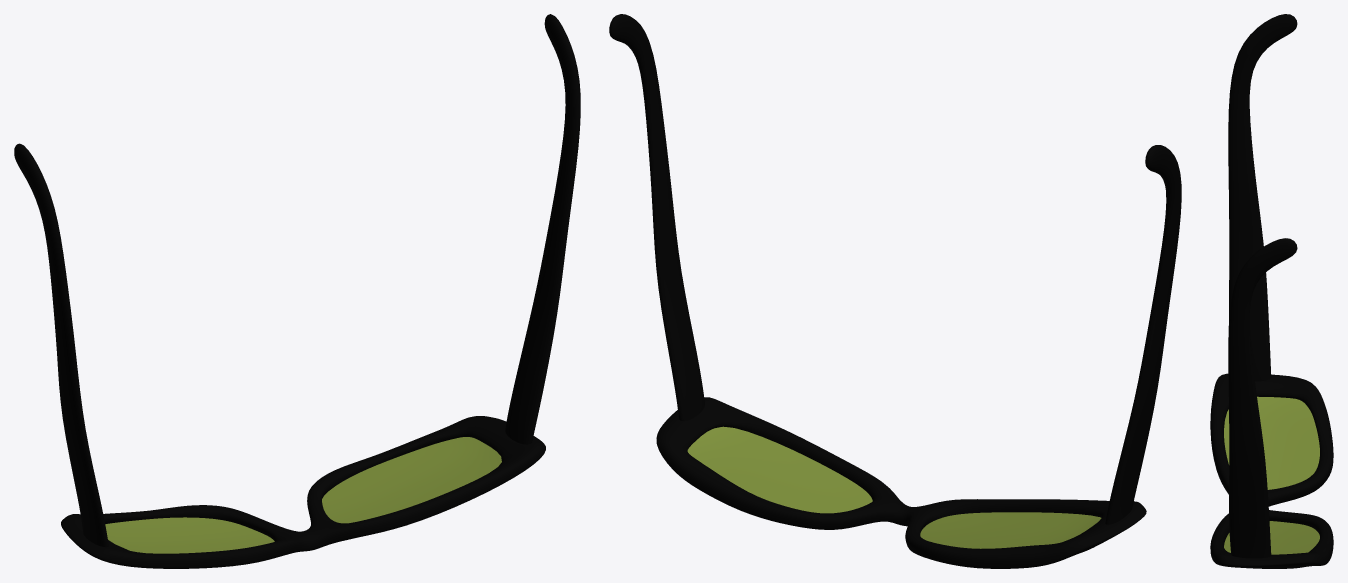
Rendered from Acetato_1.fbx.
The picture shows the model from 3 angles, left to right: view 1: azimuth 30°, elevation 25°; view 2: azimuth 150°, elevation 25°; view 3: azimuth 270°, elevation 25°; orthographic projection. The views are drawn at different scales.
Visible parts, largest first — view 1: Frame, Lens; view 2: Frame, Lens; view 3: Frame, Lens.
Part boxes in pixels (x1,y1,x2,y2): Frame: (14,14,580,568); Lens: (105,437,501,553); Frame: (609,14,1181,568); Lens: (687,426,1101,548); Frame: (1210,14,1333,568); Lens: (1224,396,1319,554).
Bounding box in the file's own units: 0.1674 × 0.1341 × 0.0382.
